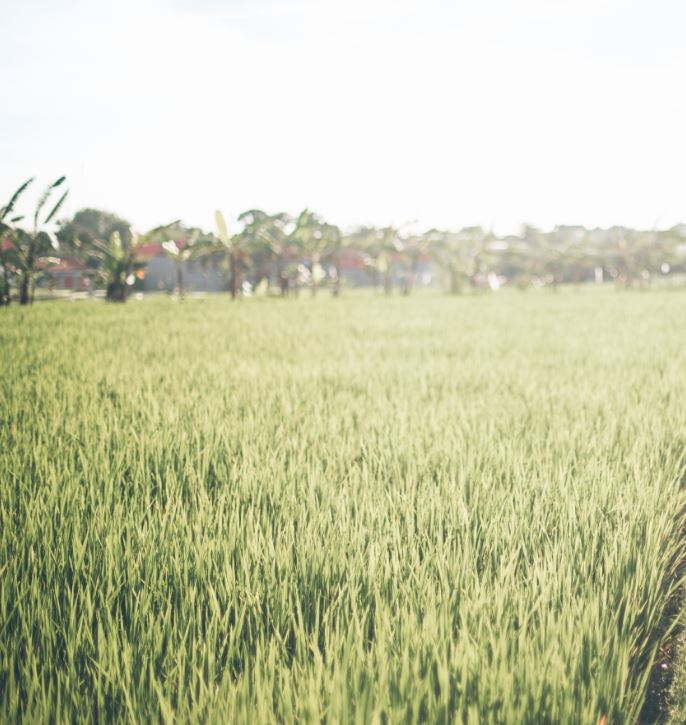Wheat: (54, 448, 633, 697)
